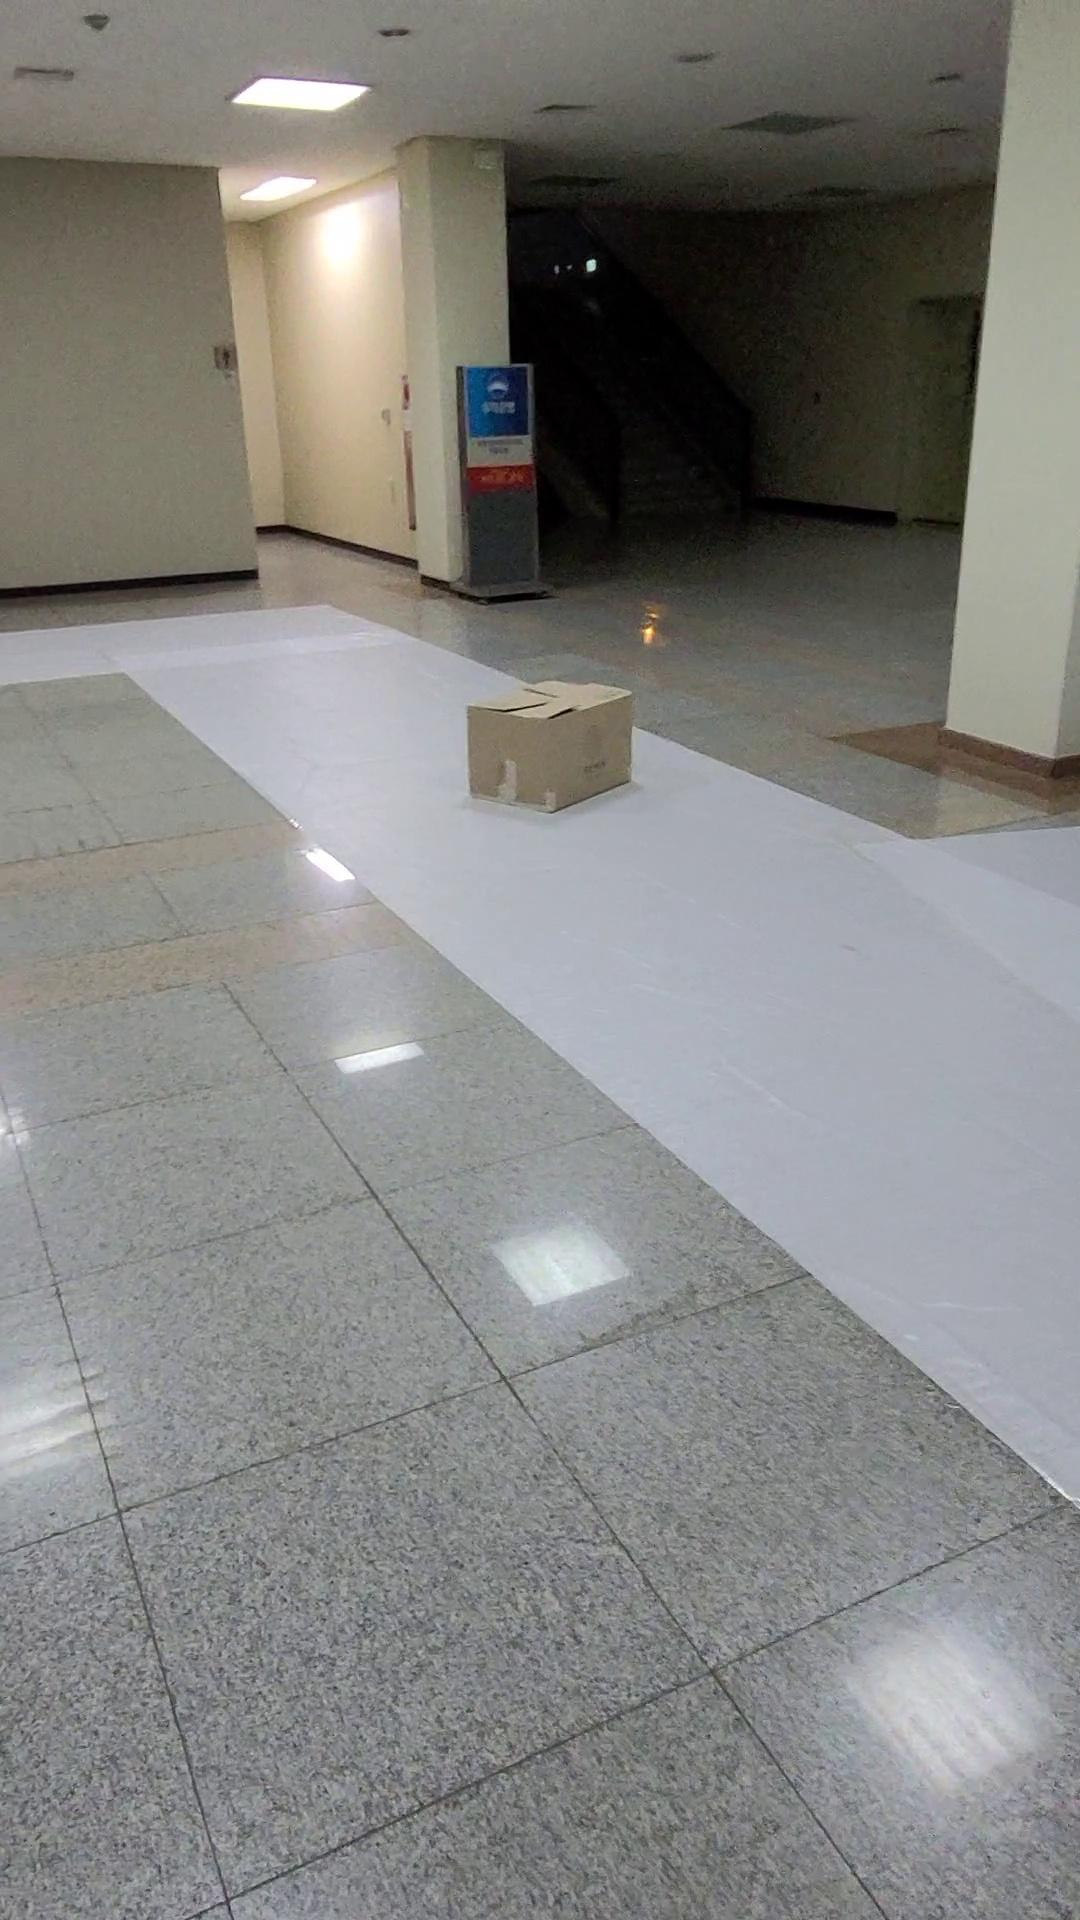Box: (423, 647, 676, 823)
